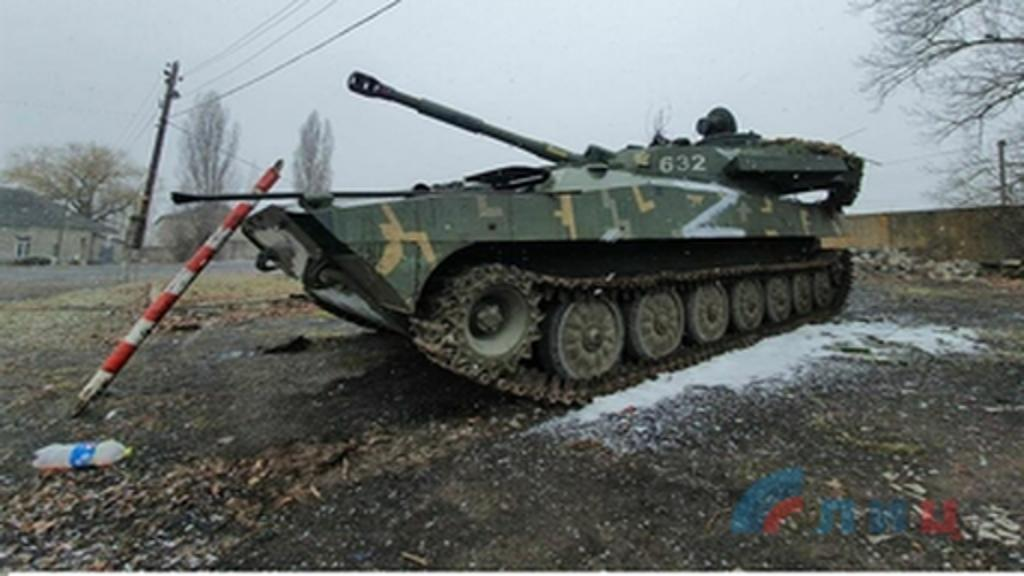ART: (240, 68, 862, 412)
